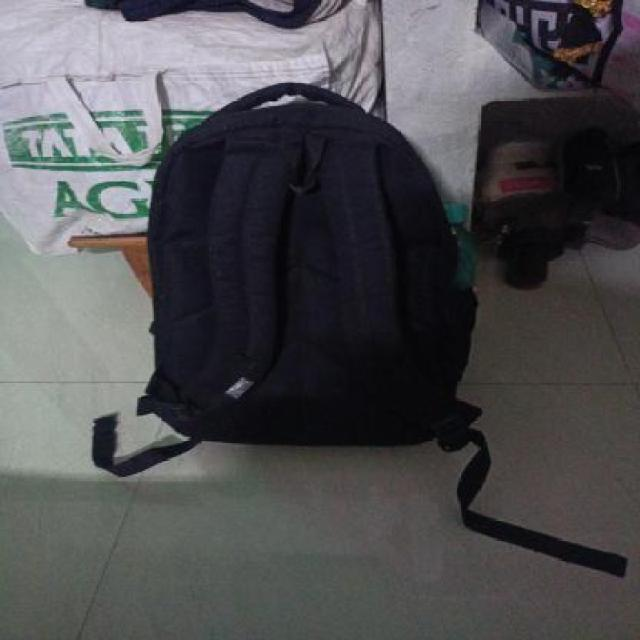backpack: (132, 80, 491, 455)
